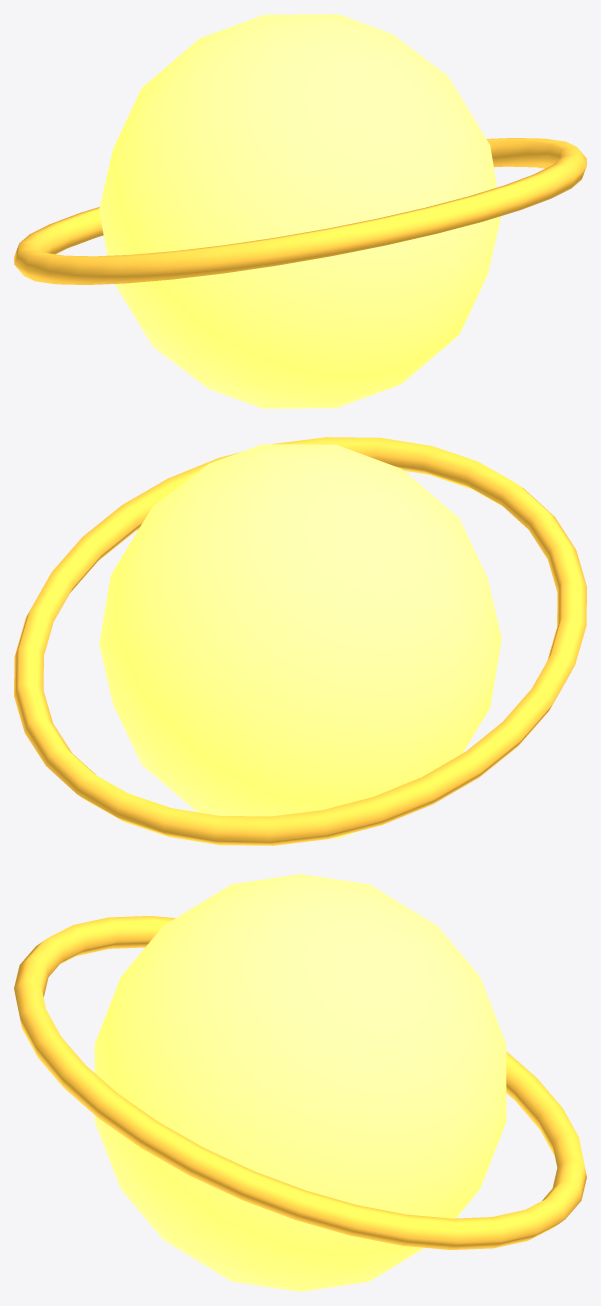
Rendered from orb-done.glb.
3 renders of one model, top to bottom at view 1: azimuth 30°, elevation 25°; view 2: azimuth 150°, elevation 25°; view 3: azimuth 270°, elevation 25°, orthographic. The views are drawn at different scales.
Visible parts, largest first — view 1: Orb, Ring; view 2: Orb, Ring; view 3: Orb, Ring.
Part boxes in pixels (<box>): Orb: <box>99,14,501,408</box>; Ring: <box>14,138,586,284</box>; Orb: <box>99,444,501,838</box>; Ring: <box>14,437,586,845</box>; Orb: <box>94,874,506,1291</box>; Ring: <box>14,916,586,1249</box>.
Size of the model in its own units: 1.16 by 0.7835 by 1.09.
